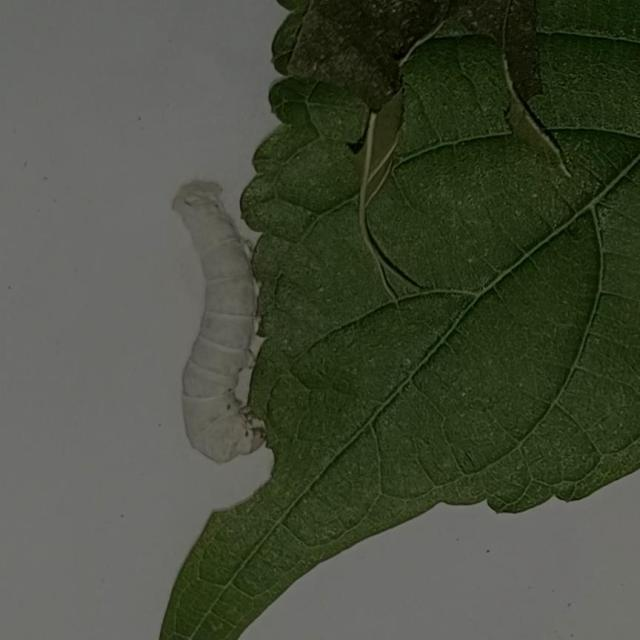Healthy: (151, 166, 289, 478)
